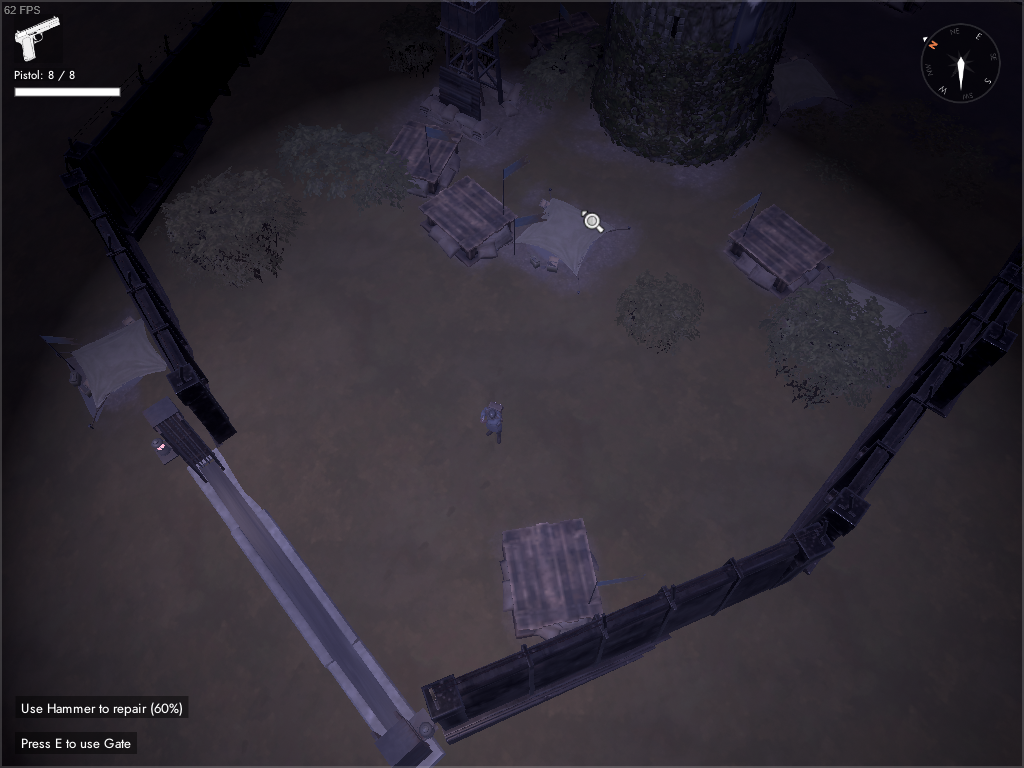fortified_wall: (418, 519, 842, 749), (778, 256, 1024, 576), (45, 163, 246, 450), (60, 1, 289, 246), (918, 259, 1024, 421)
foxhole: (780, 261, 938, 389), (32, 309, 190, 433), (491, 186, 646, 300), (741, 42, 868, 130)
lowered_gate: (138, 393, 448, 768)
pillbox: (492, 513, 636, 647), (412, 154, 529, 270), (719, 188, 839, 300), (373, 114, 470, 202)
player: (477, 398, 507, 446)
use_gate: (16, 728, 141, 757)
watchtower: (413, 1, 533, 149)
